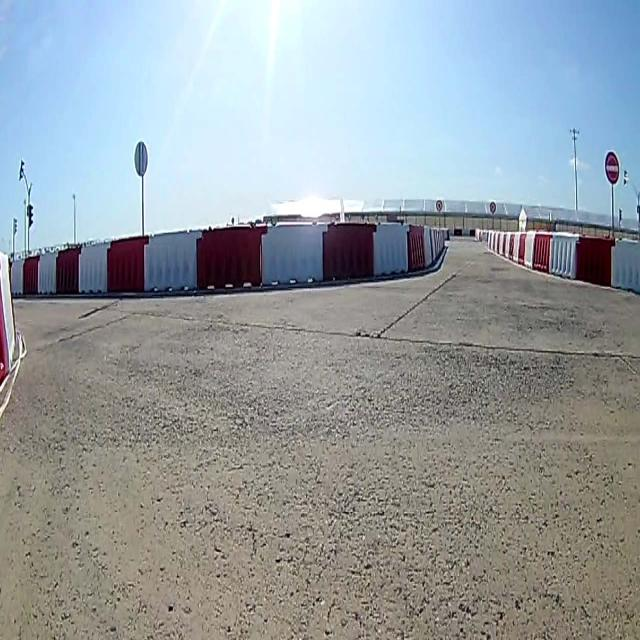girisyok: (600, 146, 622, 191)
